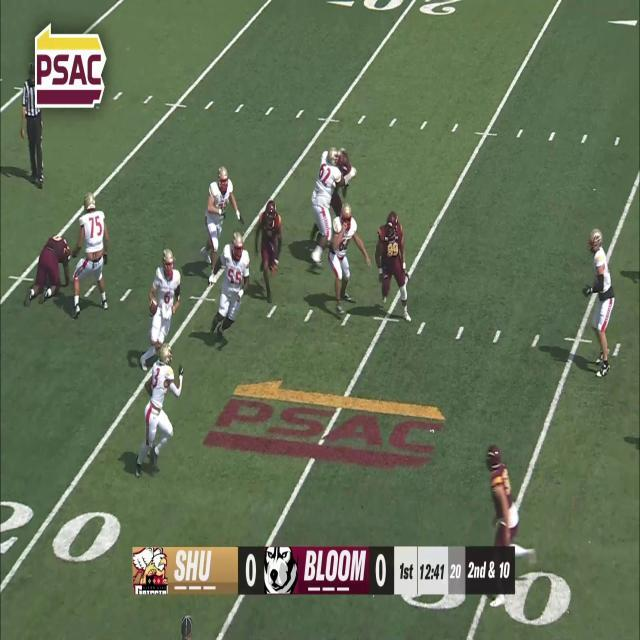football: (148, 297, 161, 319)
